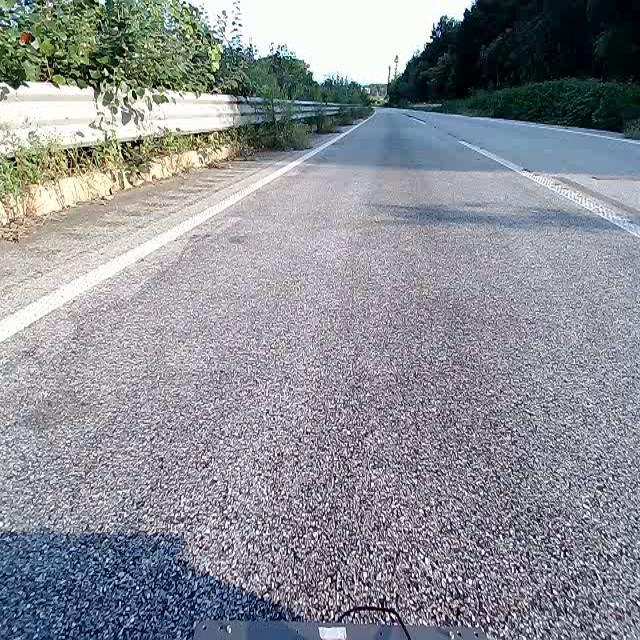Lane: (0, 110, 368, 340), (0, 120, 367, 343), (457, 137, 638, 244), (460, 140, 639, 238)
